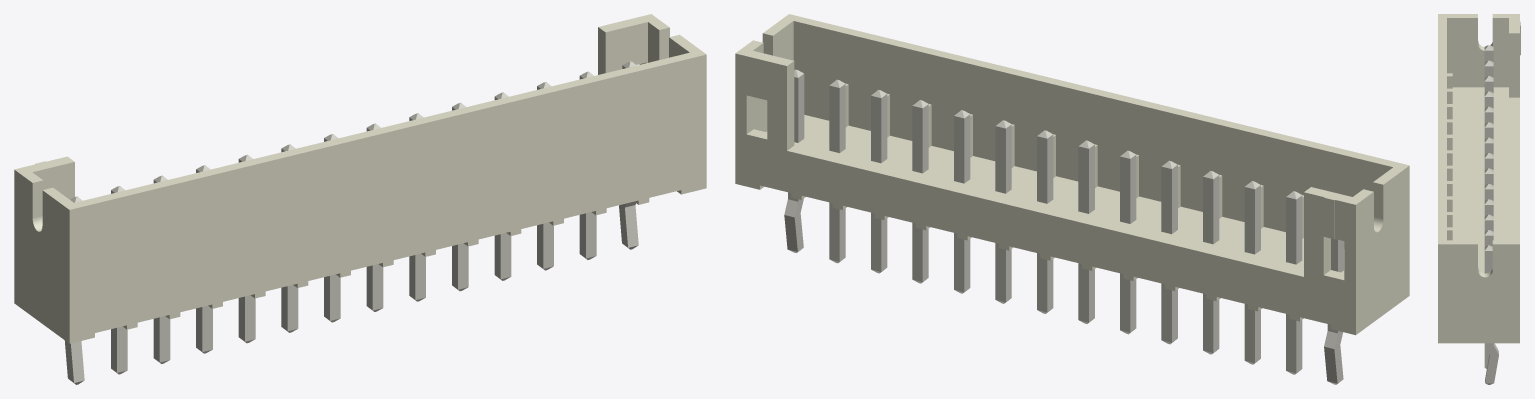
File: kc-jst_ph_b14b-ph-k_1x14_p2.00mm_vertical.glb
3 views of the same model, side by side, from view 1: azimuth 30°, elevation 25°; view 2: azimuth 150°, elevation 25°; view 3: azimuth 270°, elevation 25° (orthographic). The views are drawn at different scales.
Parts seen in each view (by area): view 1: 0.75_0.75_0.5833333333333334_0, 0.6666666666666666_0.6666666666666666_0.5833333333333334_0.8; view 2: 0.75_0.75_0.5833333333333334_0, 0.6666666666666666_0.6666666666666666_0.5833333333333334_0.8; view 3: 0.75_0.75_0.5833333333333334_0, 0.6666666666666666_0.6666666666666666_0.5833333333333334_0.8.
Boxes of the visible parts, x1,y1,x2,y2 form: 0.75_0.75_0.5833333333333334_0: (14, 14, 706, 343); 0.6666666666666666_0.6666666666666666_0.5833333333333334_0.8: (64, 61, 638, 384); 0.75_0.75_0.5833333333333334_0: (735, 14, 1409, 335); 0.6666666666666666_0.6666666666666666_0.5833333333333334_0.8: (784, 69, 1343, 384); 0.75_0.75_0.5833333333333334_0: (1438, 14, 1520, 343); 0.6666666666666666_0.6666666666666666_0.5833333333333334_0.8: (1484, 45, 1498, 384).
Bounding box in the file's own units: 2.99 × 0.94 × 0.4548.
